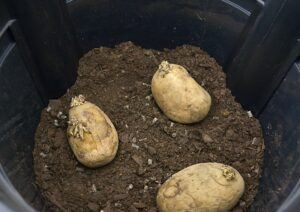potato: (65, 99, 134, 168)
